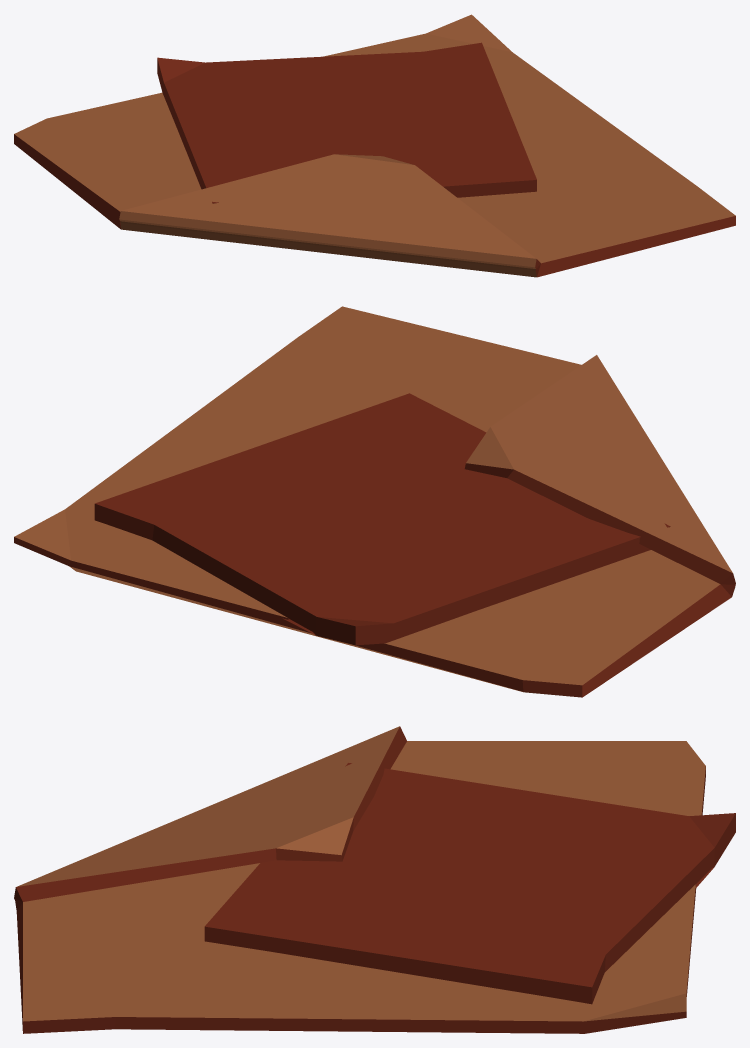
File: cloth.glb
The picture shows the model from 3 angles, top to bottom: view 1: azimuth 30°, elevation 25°; view 2: azimuth 150°, elevation 25°; view 3: azimuth 270°, elevation 25°; orthographic projection. The views are drawn at different scales.
Parts seen in each view (by area): view 1: Plane, Plane.001; view 2: Plane, Plane.001; view 3: Plane, Plane.001.
Part boxes in pixels (<box>): Plane: <box>14,14,735,277</box>; Plane.001: <box>157,42,536,203</box>; Plane: <box>14,306,735,697</box>; Plane.001: <box>94,393,670,645</box>; Plane: <box>14,726,705,1033</box>; Plane.001: <box>204,763,735,1004</box>.
Size of the model in its own units: 0.7479 by 0.0638 by 0.7978.
